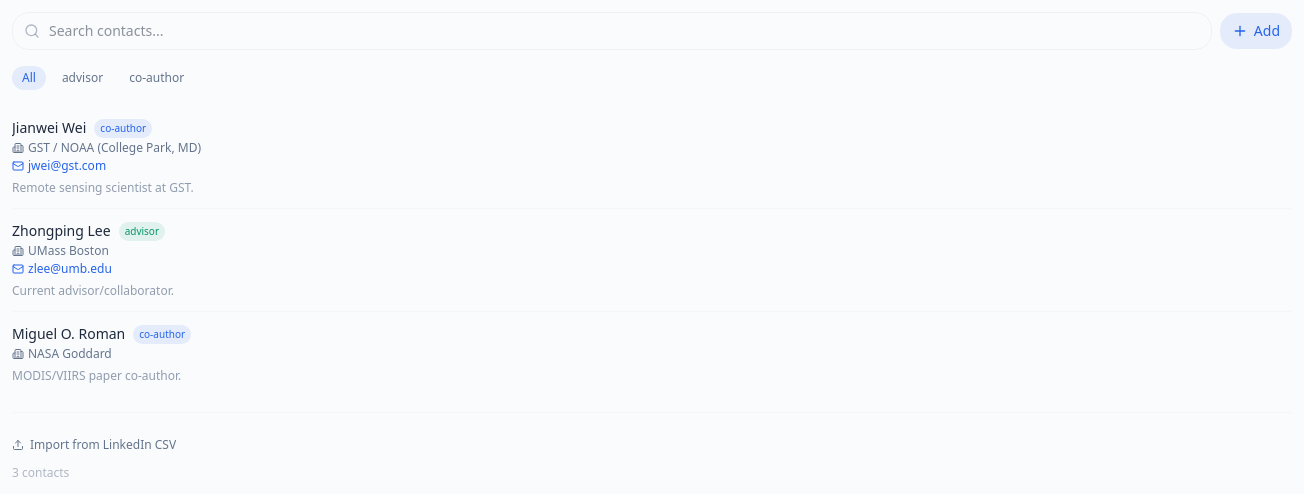
Test case: Search and filter › search by affiliation filters contacts
Type "NASA" into the field with test id "search-contacts" at (612, 31), box [12,12,1212,50]
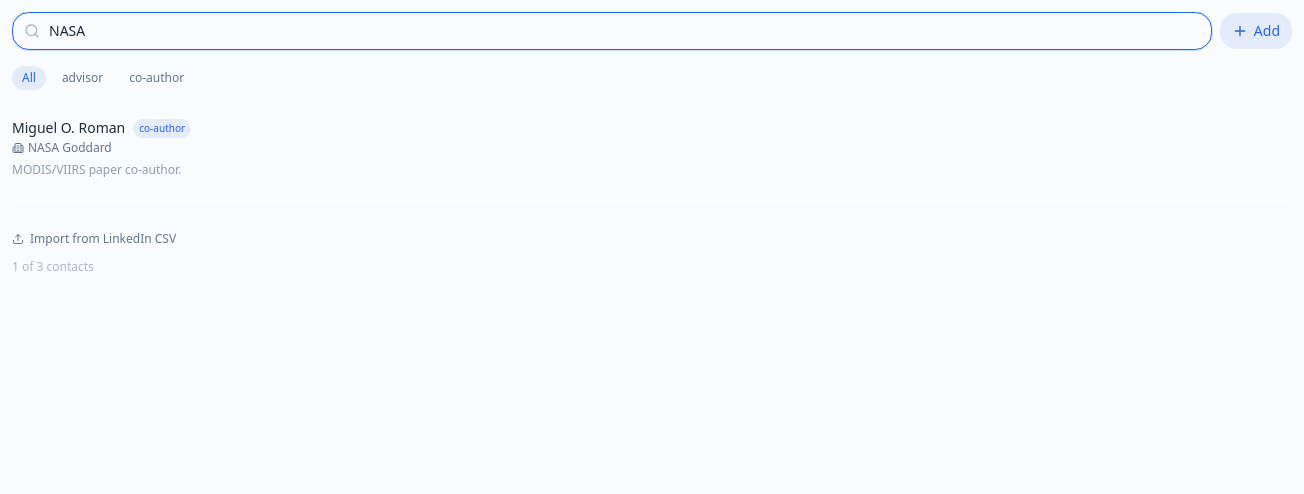
Expected: the element with test id "contact-c-roman" is shown, [12,118,191,178]
Expected: the element with test id "contact-c-wei" is gone
